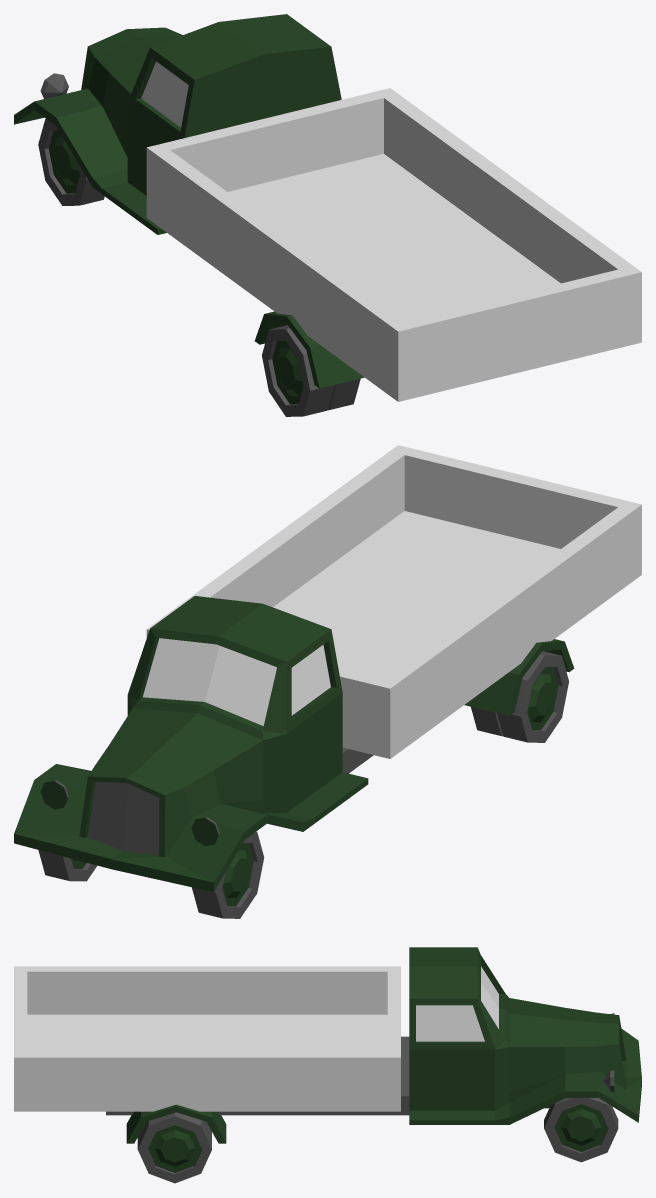
The model's file is Transporter.fbx.
3 renders of one model, top to bottom at view 1: azimuth 30°, elevation 25°; view 2: azimuth 150°, elevation 25°; view 3: azimuth 270°, elevation 25°, orthographic. The views are drawn at different scales.
Visible parts, largest first — view 1: Car; view 2: Car; view 3: Car.
Boxes of the visible parts, x1,y1,x2,y2 form: Car: (14, 14, 641, 416); Car: (14, 445, 641, 918); Car: (14, 947, 641, 1183).
Size of the model in its own units: 671 by 543 by 1833.
